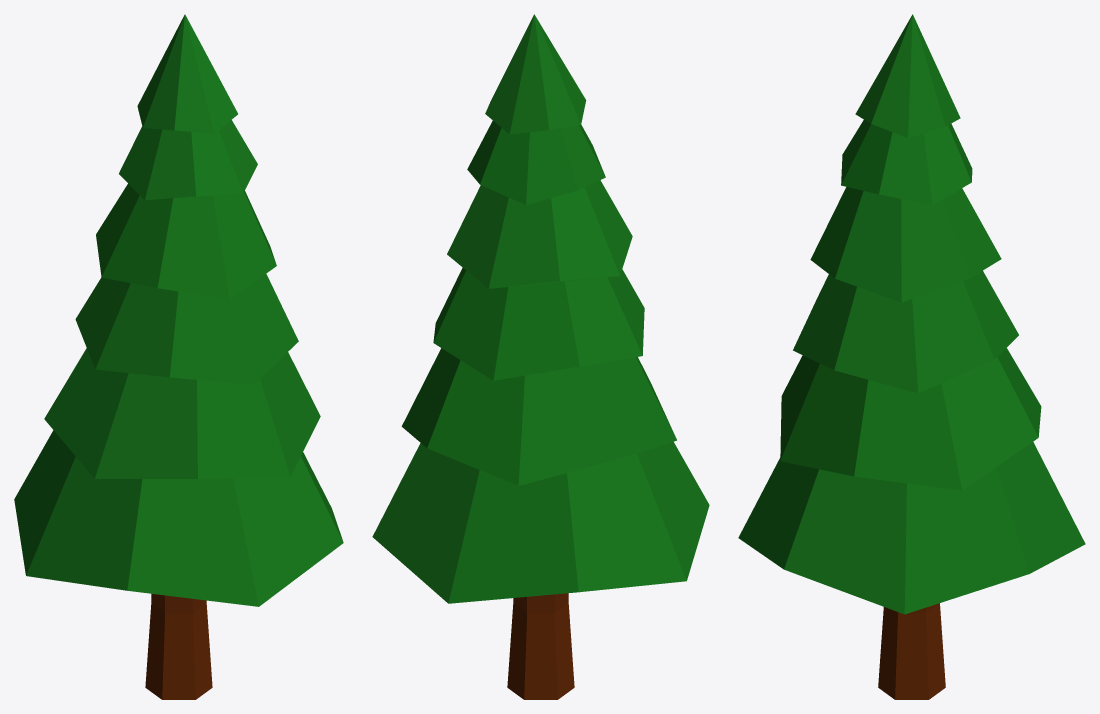
Rendered from pfm_pinetreefbx.fbx.
The picture shows the model from 3 angles, left to right: view 1: azimuth 30°, elevation 25°; view 2: azimuth 150°, elevation 25°; view 3: azimuth 270°, elevation 25°; orthographic projection.
Parts seen in each view (by area): view 1: Cone; view 2: Cone; view 3: Cone.
Part boxes in pixels (x1=…): Cone: x1=14, y1=14, x2=343, y2=699; Cone: x1=372, y1=14, x2=709, y2=699; Cone: x1=738, y1=14, x2=1085, y2=699.
Bounding box in the file's own units: 199 × 428 × 199.
